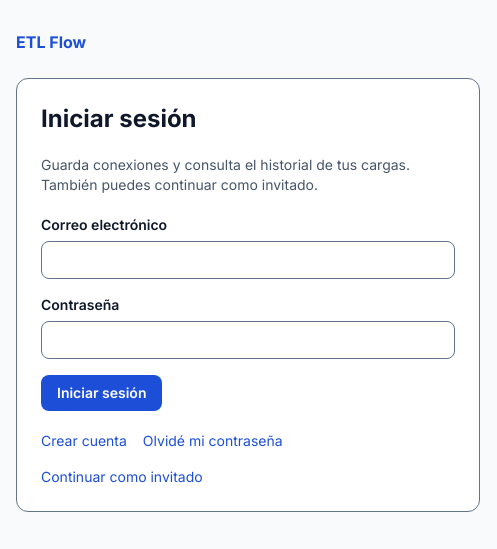
Test: account forms › does not echo an authentication provider's error or credentials
Type "person@example.com" into the field labelled "Correo electrónico" at coordinates (248, 260), box x1=41 y1=241 x2=455 y2=279
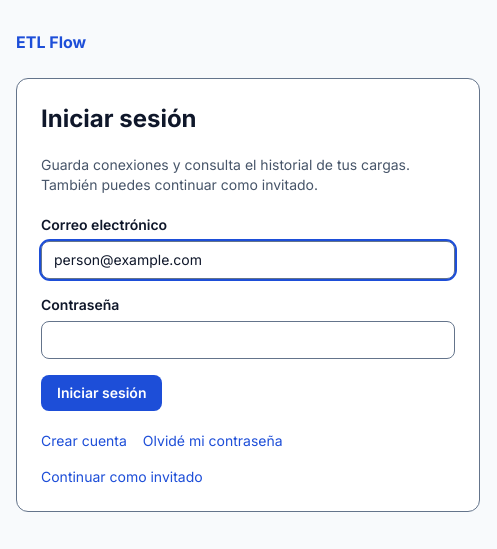
Type "synthetic-secret" into the password field labelled "Contraseña" at coordinates (248, 340), box x1=41 y1=321 x2=455 y2=359
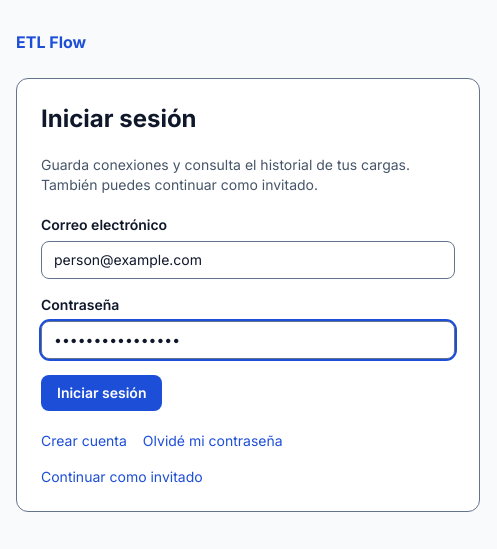
Click the button "Iniciar sesión" at coordinates (102, 393), box x1=41 y1=375 x2=162 y2=411
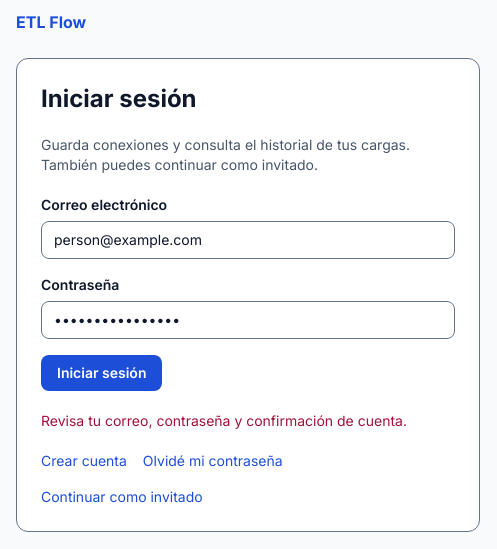
Expected: the message does not show "synthetic-secret", x1=41 y1=411 x2=455 y2=431
Expected: the message shows "Revisa tu correo", x1=41 y1=412 x2=407 y2=429
